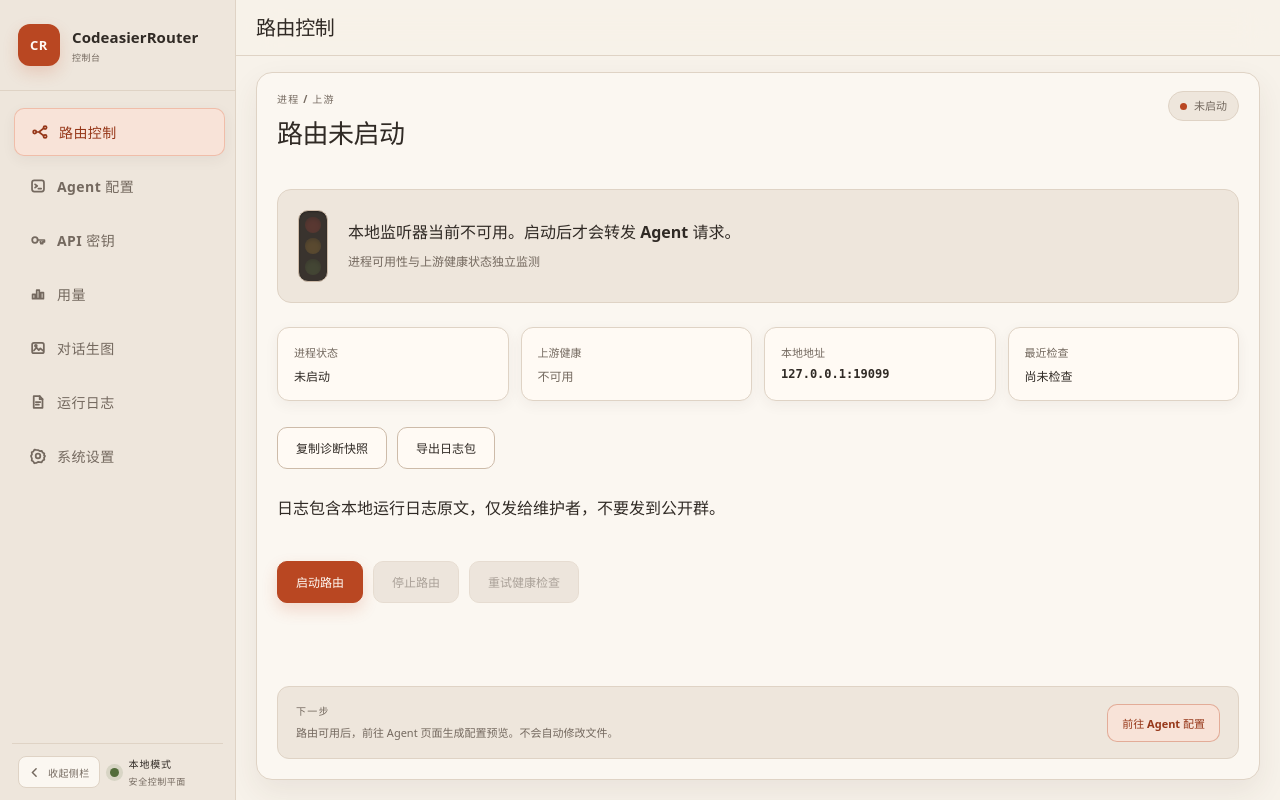
Test: App navigation › opens the production Router page and navigates from its Agent action
This screenshot has width=1280, height=800.
Expected: the navigation bar named "主导航" does not show "01", x1=0 y1=91 x2=235 y2=497
Expected: the navigation bar named "主导航" does not show "06", x1=0 y1=91 x2=235 y2=497
Click the button "前往 Agent 配置": click(1164, 723) x1=1107 y1=704 x2=1220 y2=742
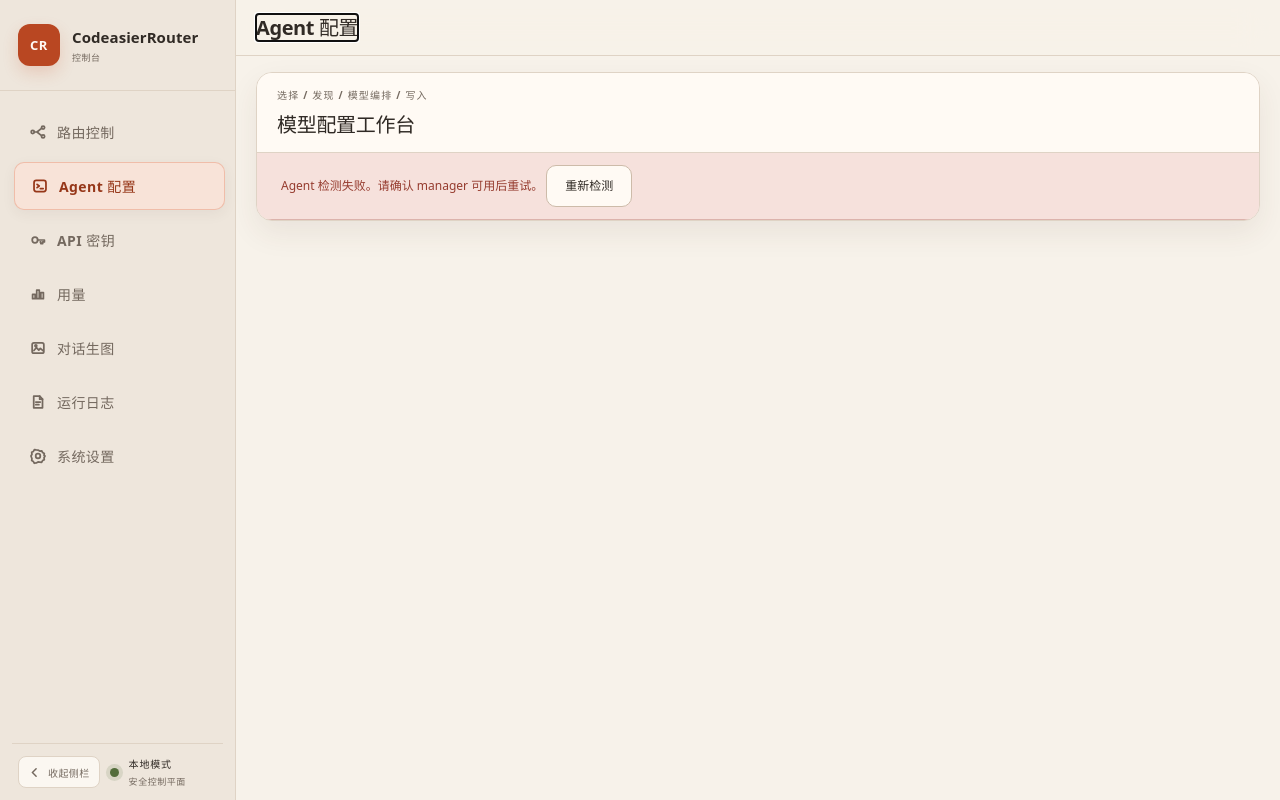
Expected: the heading "Agent 配置" is shown, x1=256 y1=16 x2=358 y2=39
Expected: the heading "模型配置工作台" is shown, x1=277 y1=109 x2=428 y2=138
Expected: the message shows "Agent 检测失败", x1=281 y1=177 x2=543 y2=194
